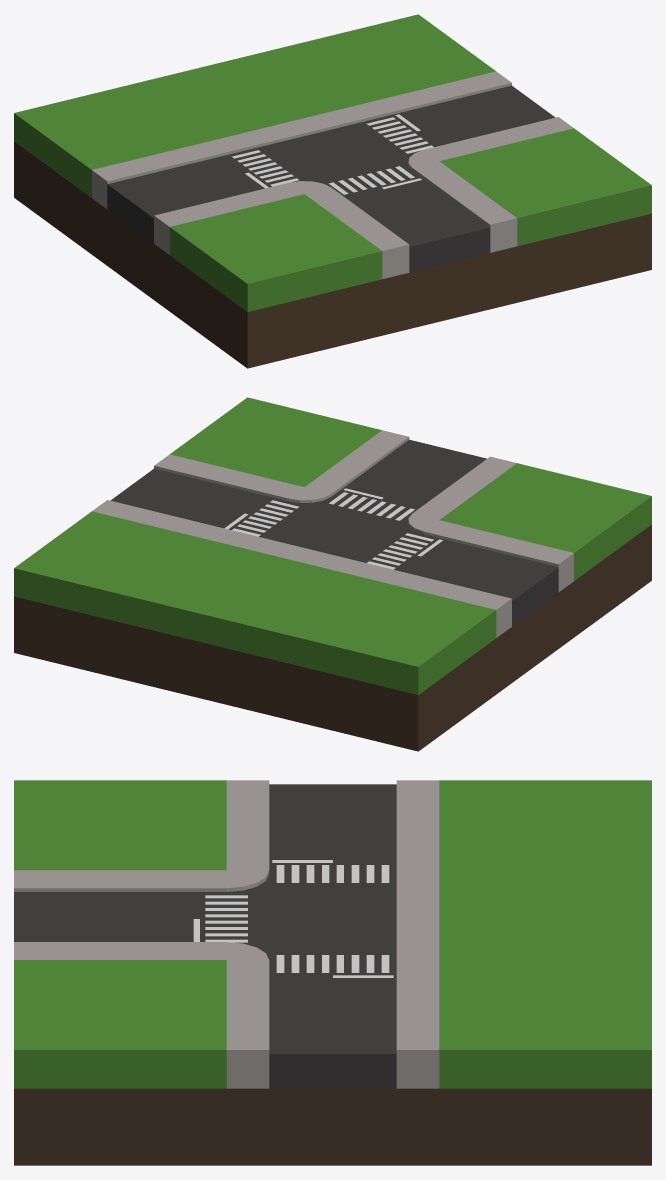
Rendered from tiles_tile-road-intersection-t.fbx.
3 views of the same model, one above another, from view 1: azimuth 30°, elevation 25°; view 2: azimuth 150°, elevation 25°; view 3: azimuth 270°, elevation 25° (orthographic). The views are drawn at different scales.
Parts seen in each view (by area): view 1: tiles_tile_road_intersection_t; view 2: tiles_tile_road_intersection_t; view 3: tiles_tile_road_intersection_t.
Boxes of the visible parts, bbox=[...] form: tiles_tile_road_intersection_t: bbox=[14, 14, 651, 368]; tiles_tile_road_intersection_t: bbox=[14, 397, 651, 751]; tiles_tile_road_intersection_t: bbox=[14, 780, 651, 1165].
Bounding box in the file's own units: 200 × 40 × 200.
